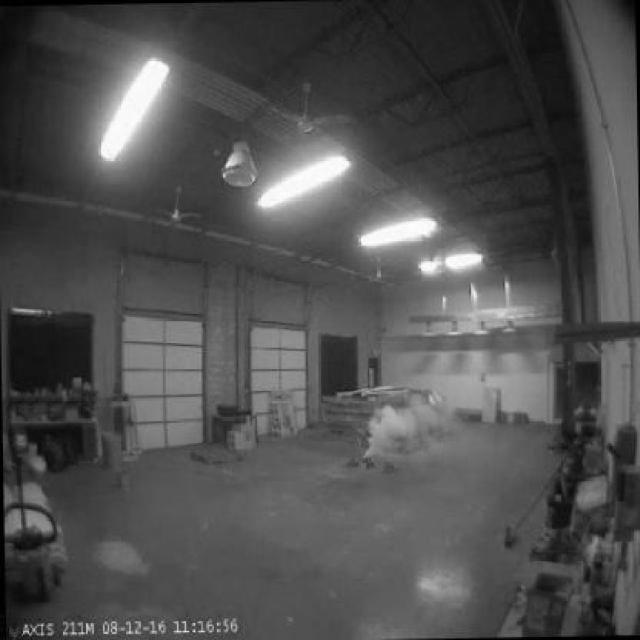fire: (358, 396, 444, 479)
